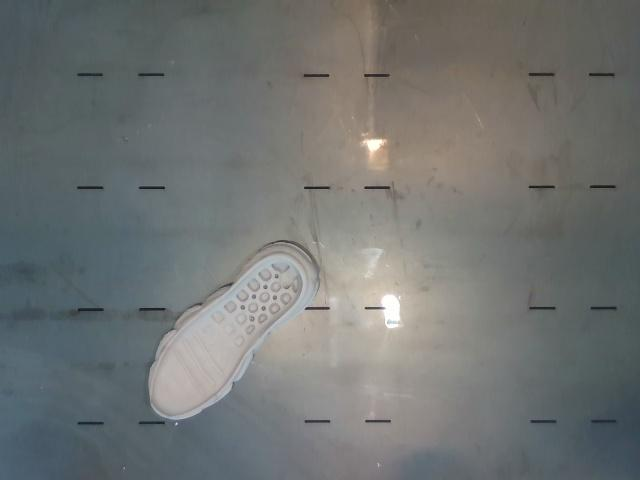shoes: (152, 256, 303, 417)
